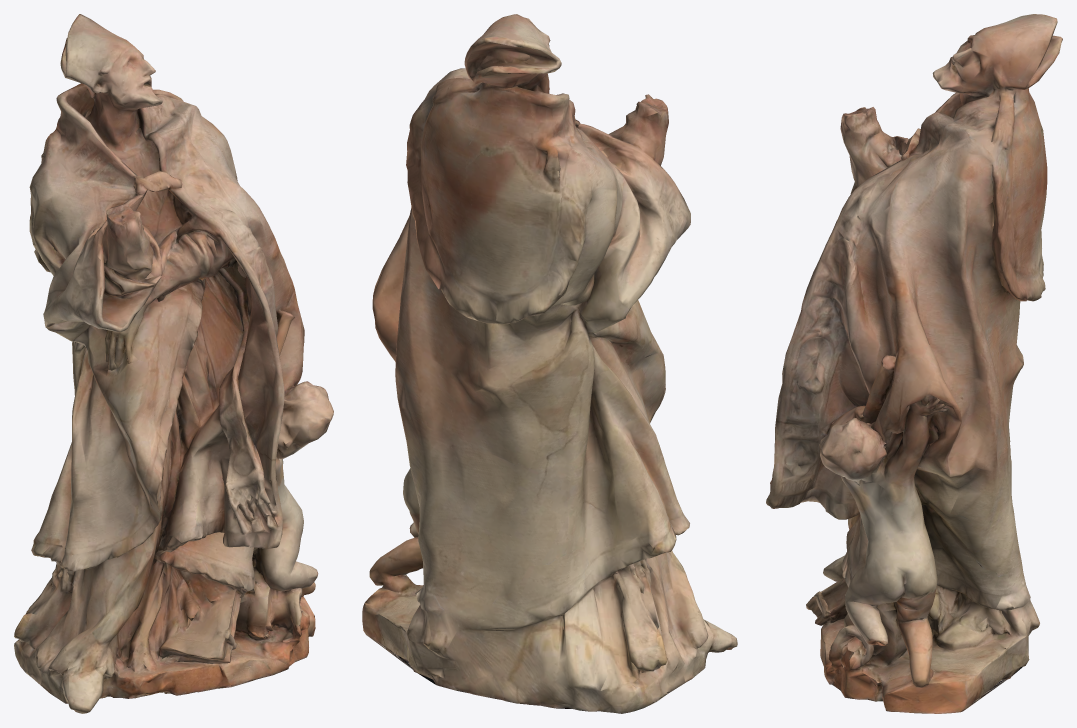
Rendered from cma-puget-terracotta-bozzetto-sauli.glb.
3 views of the same model, side by side, from view 1: azimuth 30°, elevation 25°; view 2: azimuth 150°, elevation 25°; view 3: azimuth 270°, elevation 25° (orthographic). The views are drawn at different scales.
Visible parts, largest first — view 1: 1964.36_study_for_the_blessed_alessandro_sauli; view 2: 1964.36_study_for_the_blessed_alessandro_sauli; view 3: 1964.36_study_for_the_blessed_alessandro_sauli.
Boxes of the visible parts, x1,y1,x2,y2 form: 1964.36_study_for_the_blessed_alessandro_sauli: [14, 14, 333, 713]; 1964.36_study_for_the_blessed_alessandro_sauli: [362, 14, 737, 713]; 1964.36_study_for_the_blessed_alessandro_sauli: [766, 14, 1062, 713].
Size of the model in its own units: 0.3469 by 0.6967 by 0.304.
1 material, 1 textured.
